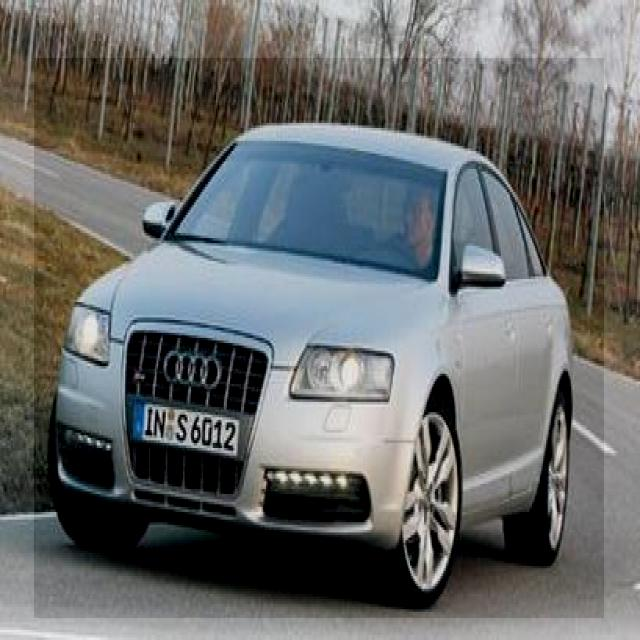Car: (34, 58, 604, 618)
